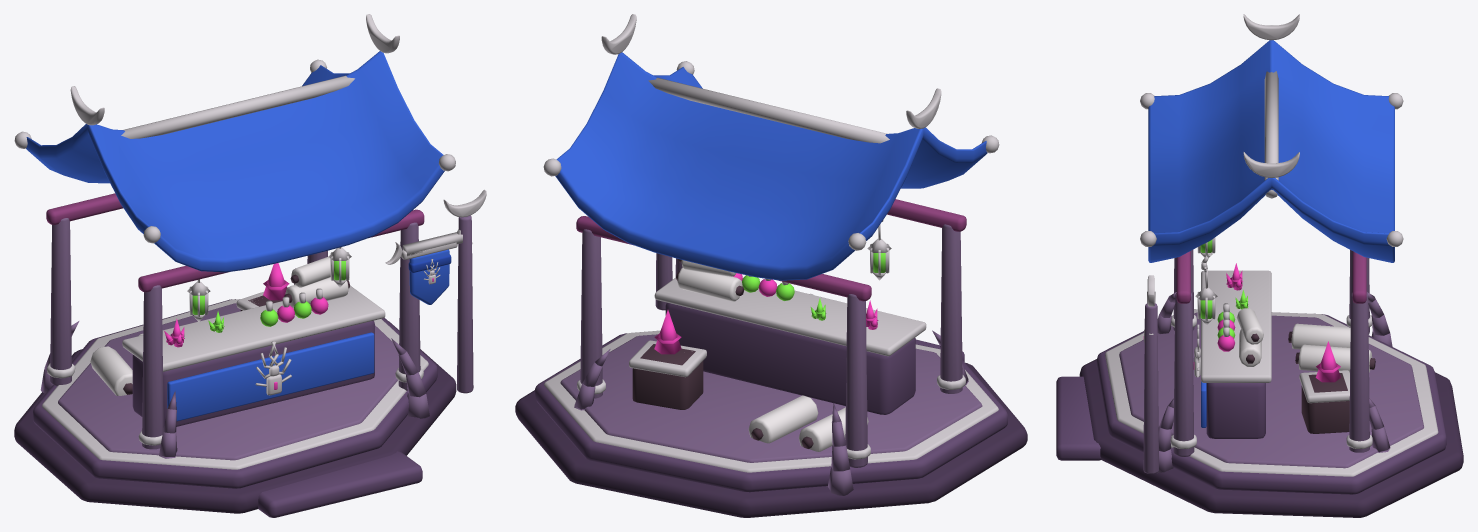
The model's file is Market.glb.
The picture shows the model from 3 angles, left to right: view 1: azimuth 30°, elevation 25°; view 2: azimuth 150°, elevation 25°; view 3: azimuth 270°, elevation 25°; orthographic projection. The views are drawn at different scales.
Parts seen in each view (by area): view 1: Market; view 2: Market; view 3: Market.
Part boxes in pixels (x1=…): Market: x1=14, y1=14, x2=486, y2=517; Market: x1=515, y1=14, x2=1027, y2=517; Market: x1=1056, y1=14, x2=1463, y2=517.
Bounding box in the file's own units: 3.13 × 2.67 × 2.87.
